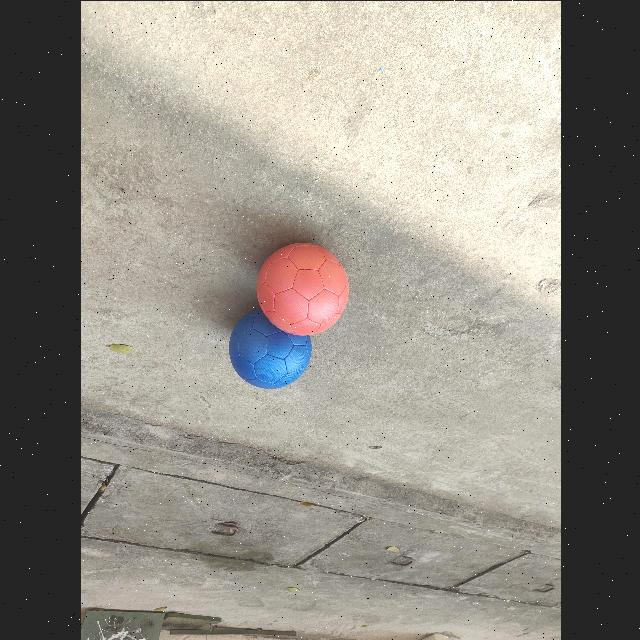B: (228, 309, 312, 388)
R: (255, 242, 348, 334)
